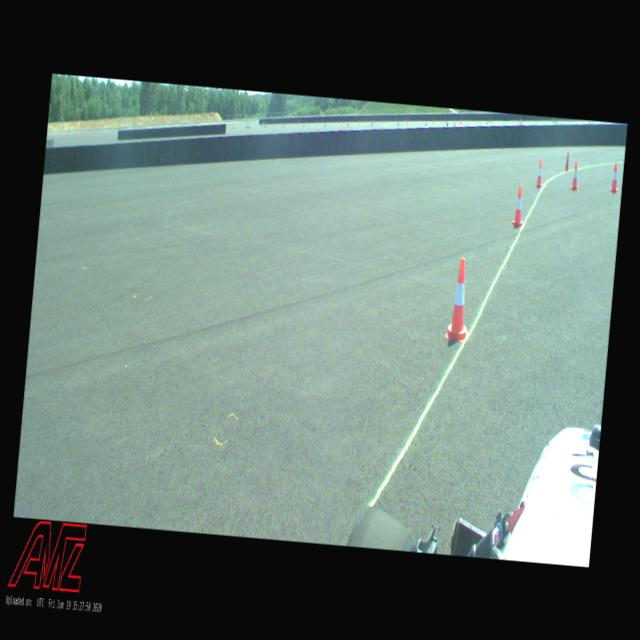orange_cone: (444, 256, 474, 342), (511, 185, 525, 227), (609, 162, 620, 192), (534, 158, 544, 188), (570, 160, 580, 190)
